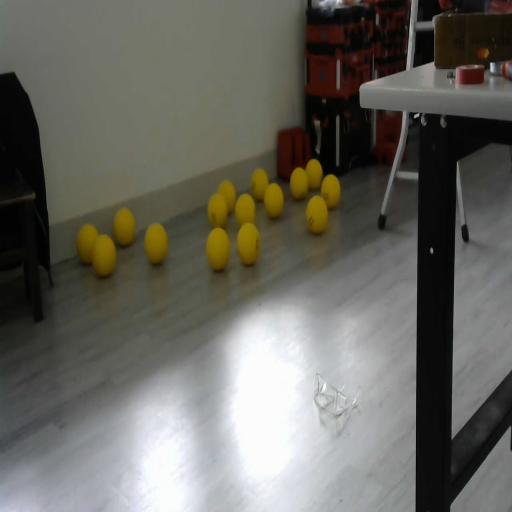FUEL: (90, 232, 117, 278), (205, 226, 231, 272), (236, 221, 260, 266), (144, 222, 168, 266), (306, 194, 328, 235), (113, 208, 136, 246), (234, 192, 256, 227), (320, 174, 341, 209), (264, 182, 284, 218), (218, 179, 236, 216), (304, 157, 324, 190), (289, 167, 308, 201), (250, 168, 269, 201)
